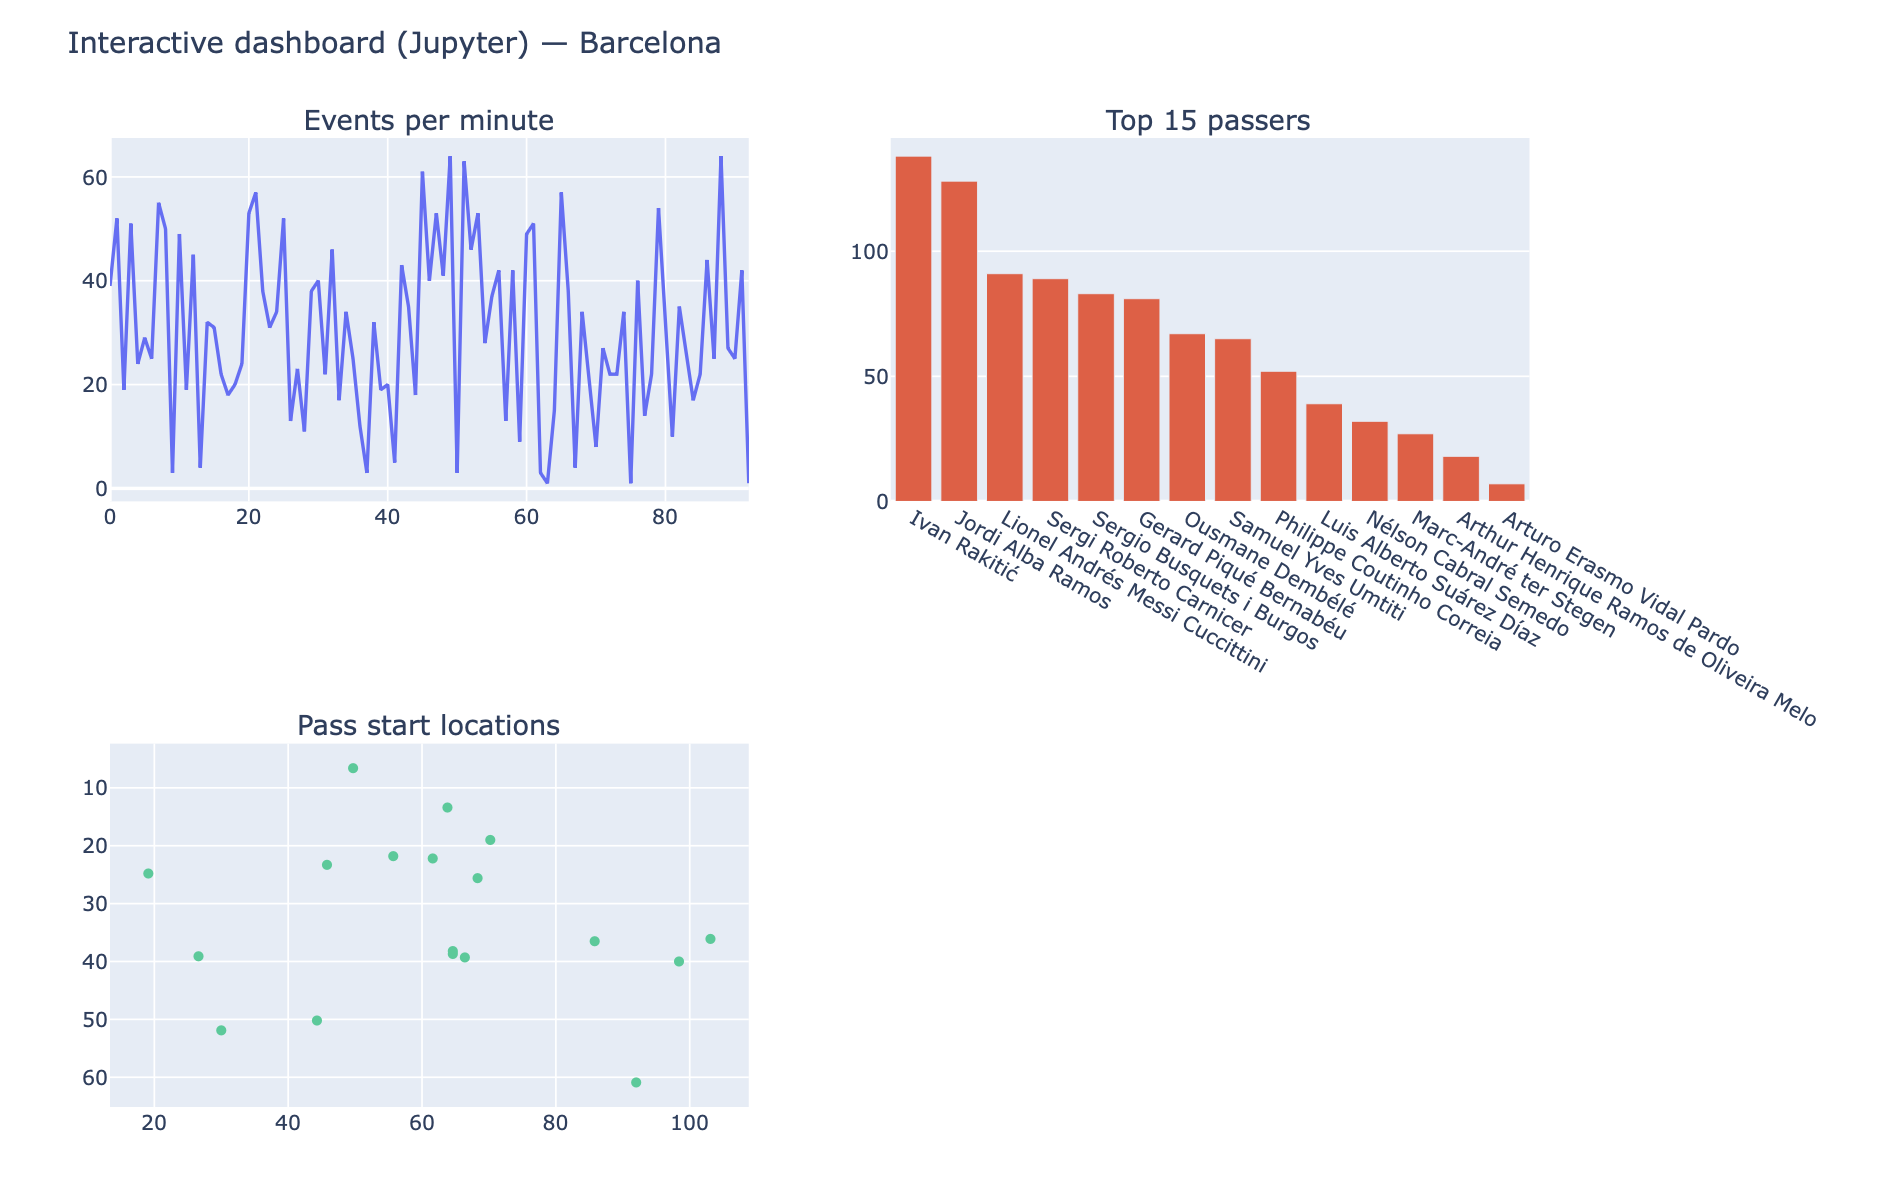

What the dashboard file says about the page in this screenshot:
{"tool":"tableau","page":{"name":"Match Event Exploration Dashboard","canvas":[1000,1000],"units":"permille","ordinal":0},"visuals":[{"type":"title","box":[6.6,9.8,986.9,45.3]},{"type":"worksheet","title":"Events Over Time","mark":"Automatic","rows":["event_id (events_basic_15946.csv)"],"cols":["minute (events_basic_15946.csv)"],"box":[6.6,55.1,855.7,467.5]},{"type":"filter","title":"Events Over Time","param":"[federated.1xkvnud0mpoi3j13ck1xm0vm5hxe].[none:team (events_basic_15946.csv):nk]","box":[862.3,55.1,131.2,109.1]},{"type":"filter","title":"Pass Count by Player","param":"[federated.1xkvnud0mpoi3j13ck1xm0vm5hxe].[none:player:nk]","box":[862.3,164.2,131.2,460.8]},{"type":"worksheet","title":"Pass Count by Player","mark":"Automatic","rows":["player"],"cols":["event_id"],"box":[6.6,522.7,493.4,467.5]},{"type":"worksheet","title":"Pass Start Locations","mark":"Circle","rows":["start_y"],"cols":["start_x"],"box":[500,522.7,362.3,467.5]}]}

Visuals, with their boxes on the dashboard's canvas, which has no fixed pixel size, in thousandths of its width and height (x1, y1, x2, y2). These are canvas units, not pixel positions in the 1902x1182 screenshot, which may show the page scaled, cropped or inside an application window:
title: pyautogui.locateOnScreen(7, 10, 994, 55)
"Events Over Time" worksheet: pyautogui.locateOnScreen(7, 55, 862, 523)
"Events Over Time" filter: pyautogui.locateOnScreen(862, 55, 994, 164)
"Pass Count by Player" filter: pyautogui.locateOnScreen(862, 164, 994, 625)
"Pass Count by Player" worksheet: pyautogui.locateOnScreen(7, 523, 500, 990)
"Pass Start Locations" worksheet (Circle marks): pyautogui.locateOnScreen(500, 523, 862, 990)
